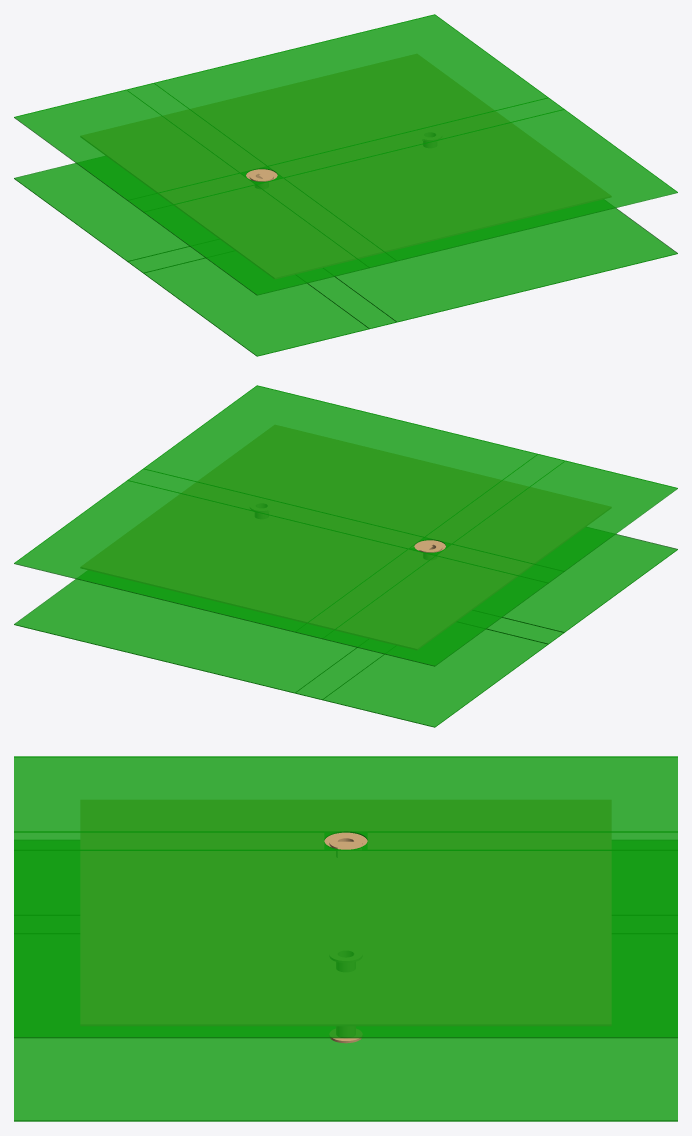
File: board.glb
The picture shows the model from 3 angles, top to bottom: view 1: azimuth 30°, elevation 25°; view 2: azimuth 150°, elevation 25°; view 3: azimuth 270°, elevation 25°; orthographic projection. The views are drawn at different scales.
Visible parts, largest first — view 1: Substrate_Layer_0_Z0, Unified_Net_1_Island_0 (×2), Substrate_Layer_1_Z0; view 2: Substrate_Layer_0_Z0, Unified_Net_1_Island_0 (×2), Substrate_Layer_1_Z0; view 3: Substrate_Layer_0_Z0, Unified_Net_1_Island_0 (×2), Substrate_Layer_1_Z0, Bare_Via_Tube_4.
Boxes of the visible parts, box(x1,y1,x2,y2) form: Substrate_Layer_0_Z0: box(14, 14, 677, 295); Unified_Net_1_Island_0 (×2): box(81, 54, 610, 278); Substrate_Layer_1_Z0: box(14, 156, 677, 356); Substrate_Layer_0_Z0: box(14, 385, 677, 666); Unified_Net_1_Island_0 (×2): box(81, 425, 610, 649); Substrate_Layer_1_Z0: box(14, 527, 677, 727); Substrate_Layer_0_Z0: box(14, 756, 677, 1038); Unified_Net_1_Island_0 (×2): box(81, 800, 610, 1025); Substrate_Layer_1_Z0: box(14, 840, 677, 1121); Bare_Via_Tube_4: box(330, 947, 360, 1037).
Bounding box in the file's own units: 0.01 × 0.0014 × 0.01.
